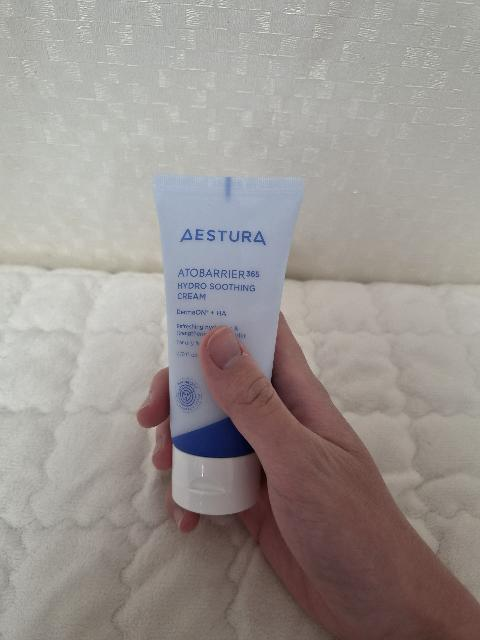handcream: (152, 173, 305, 515)
